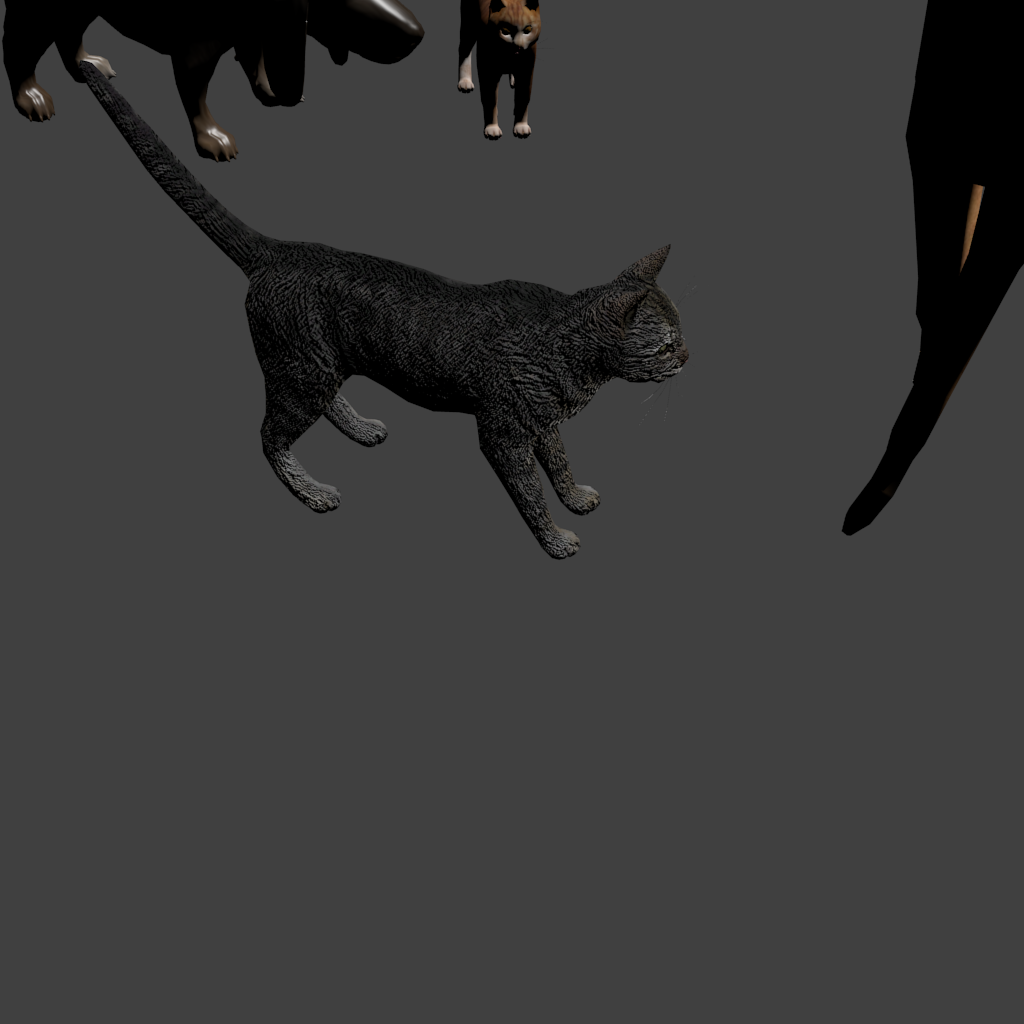Cat: (79, 60, 638, 500)
Dog: (0, 0, 425, 163), (0, 0, 35, 782)
